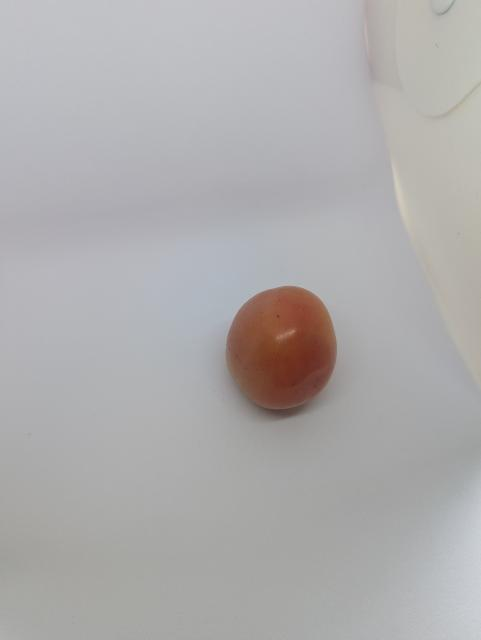red: (223, 278, 340, 417)
